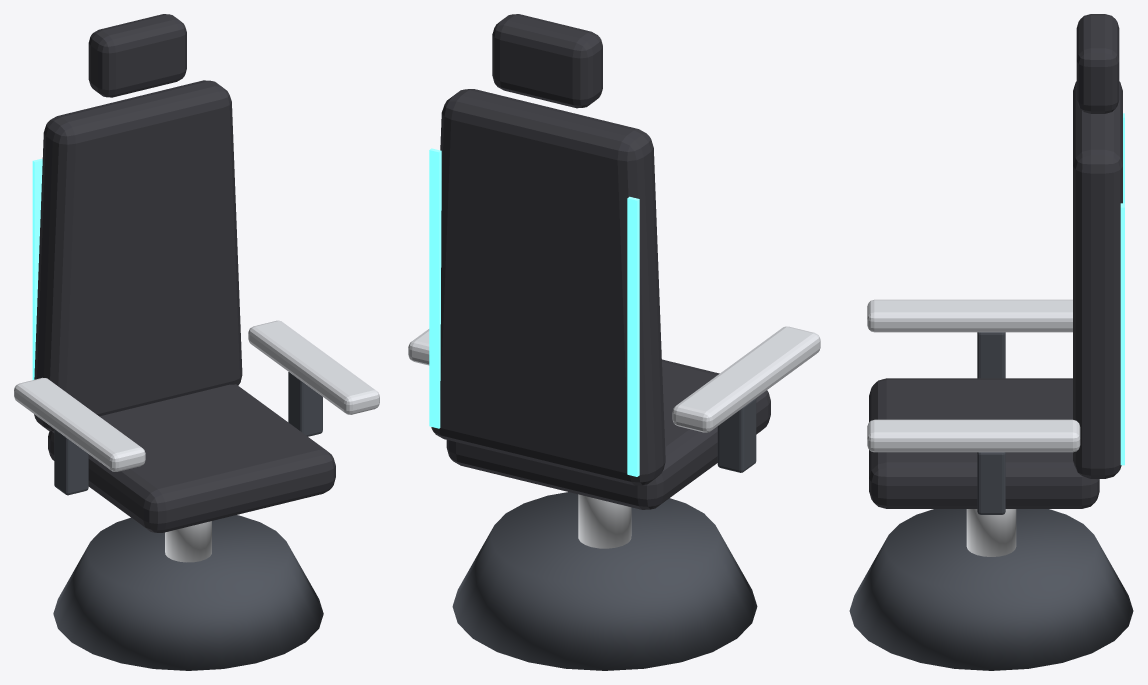
Rendered from captain_chair_pilot_seat.glb.
3 renders of one model, left to right at view 1: azimuth 30°, elevation 25°; view 2: azimuth 150°, elevation 25°; view 3: azimuth 270°, elevation 25°, orthographic. The views are drawn at different scales.
Visible parts, largest first — view 1: GD_captain_chair_pilot_seat__m2, GD_captain_chair_pilot_seat__m0, GD_captain_chair_pilot_seat__m3, GD_captain_chair_pilot_seat__m1, GD_captain_chair_pilot_seat__m4; view 2: GD_captain_chair_pilot_seat__m2, GD_captain_chair_pilot_seat__m0, GD_captain_chair_pilot_seat__m4, GD_captain_chair_pilot_seat__m3, GD_captain_chair_pilot_seat__m1; view 3: GD_captain_chair_pilot_seat__m2, GD_captain_chair_pilot_seat__m0, GD_captain_chair_pilot_seat__m3, GD_captain_chair_pilot_seat__m1, GD_captain_chair_pilot_seat__m4.
Boxes of the visible parts, left/top/right/bottom form: GD_captain_chair_pilot_seat__m2: left=34, top=14, right=335, bottom=532; GD_captain_chair_pilot_seat__m0: left=53, top=372, right=323, bottom=670; GD_captain_chair_pilot_seat__m3: left=14, top=320, right=379, bottom=471; GD_captain_chair_pilot_seat__m1: left=165, top=521, right=211, bottom=562; GD_captain_chair_pilot_seat__m4: left=32, top=158, right=42, bottom=379; GD_captain_chair_pilot_seat__m2: left=431, top=14, right=770, bottom=509; GD_captain_chair_pilot_seat__m0: left=452, top=398, right=757, bottom=670; GD_captain_chair_pilot_seat__m4: left=429, top=148, right=639, bottom=476; GD_captain_chair_pilot_seat__m3: left=408, top=326, right=820, bottom=432; GD_captain_chair_pilot_seat__m1: left=578, top=494, right=631, bottom=548; GD_captain_chair_pilot_seat__m2: left=869, top=14, right=1122, bottom=508; GD_captain_chair_pilot_seat__m0: left=849, top=332, right=1133, bottom=670; GD_captain_chair_pilot_seat__m3: left=867, top=299, right=1080, bottom=452; GD_captain_chair_pilot_seat__m1: left=966, top=509, right=1016, bottom=556; GD_captain_chair_pilot_seat__m4: left=1120, top=113, right=1124, bottom=465.
Size of the model in its own units: 0.92 by 1.8 by 0.8.
